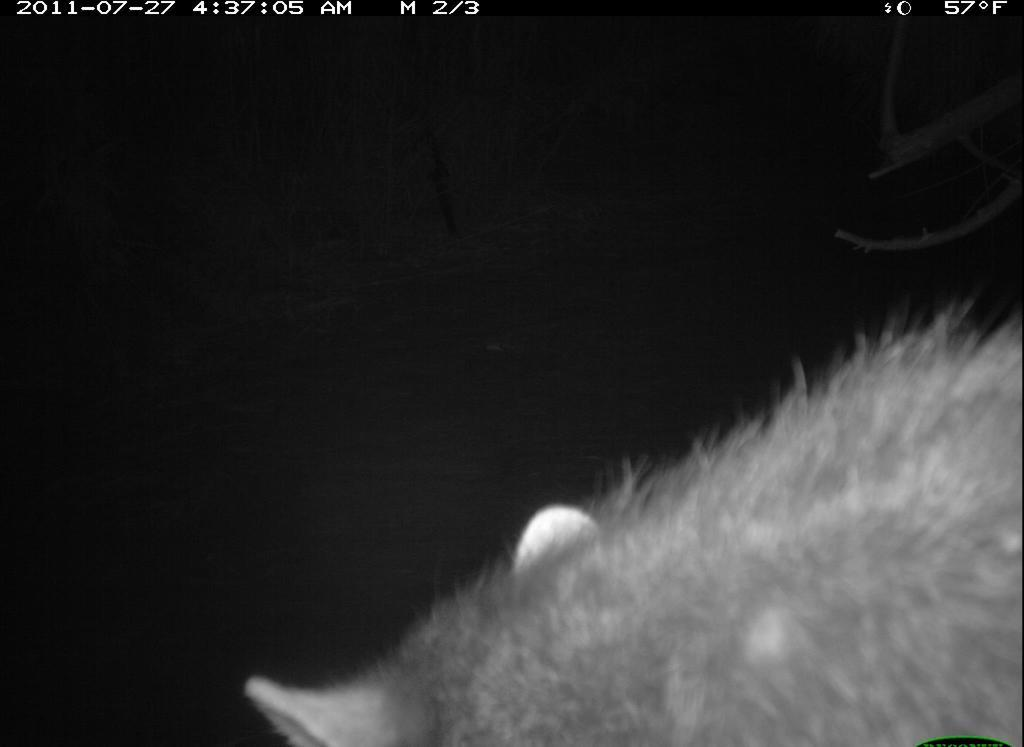raccoon: (219, 286, 1024, 747)
